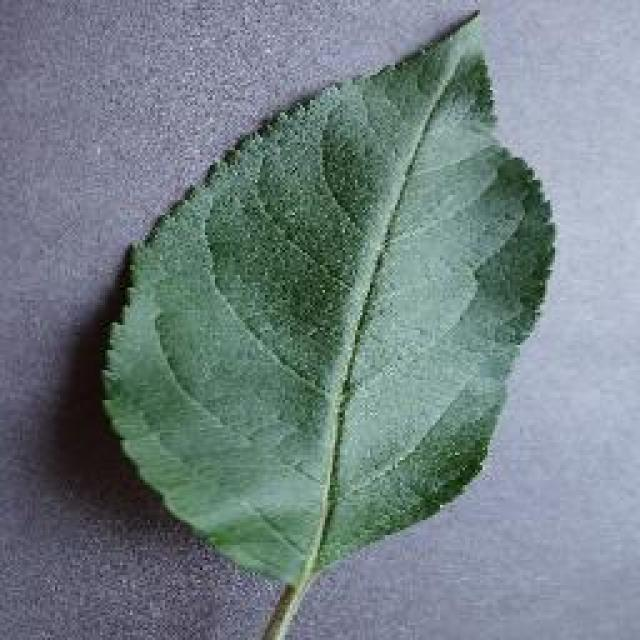apple healthy: (95, 5, 557, 637)
